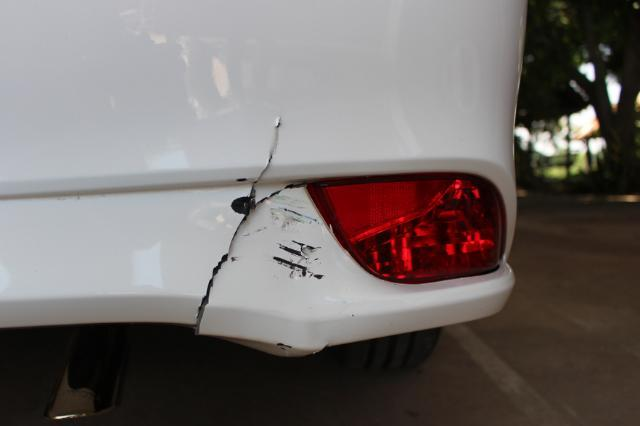Bumper: (187, 102, 332, 355)
